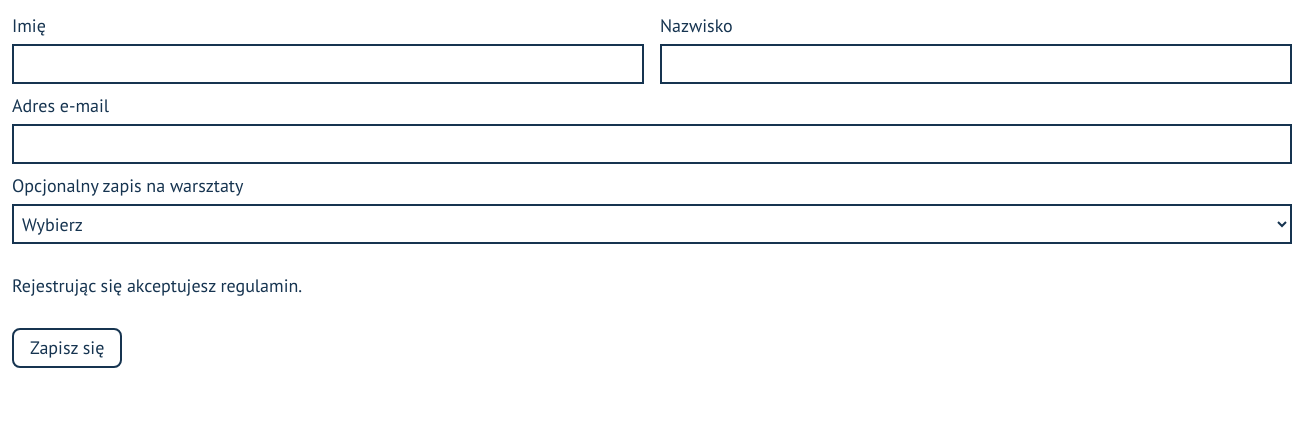
Test case: <RegistrationForm /> › displays required fields message
Click the button "Zapisz się" at (67, 348), box [12,328,122,368]
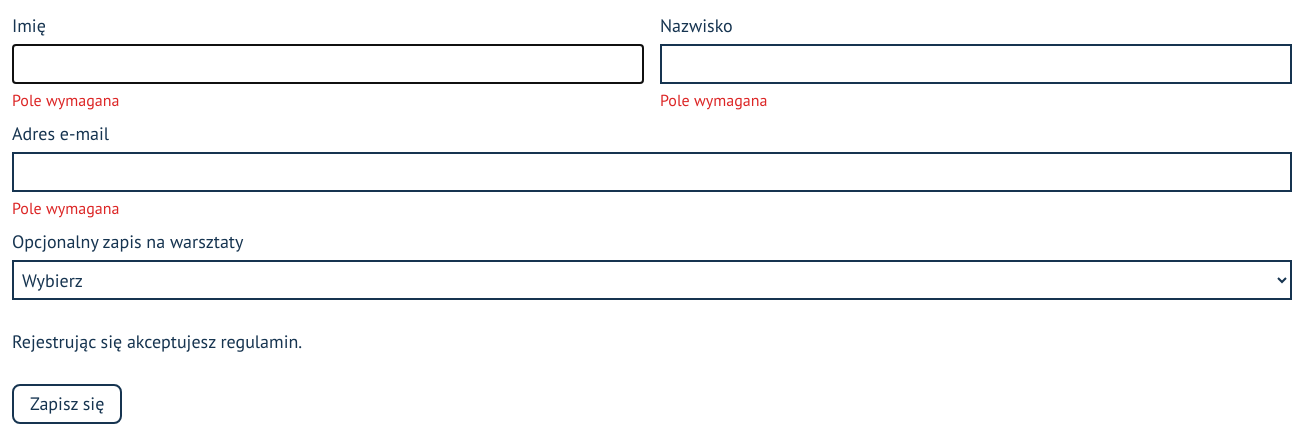
Check: the text "Pole wymagana" is shown 3 times, box [12,90,119,110]; [660,90,767,110]; [12,198,119,218]
